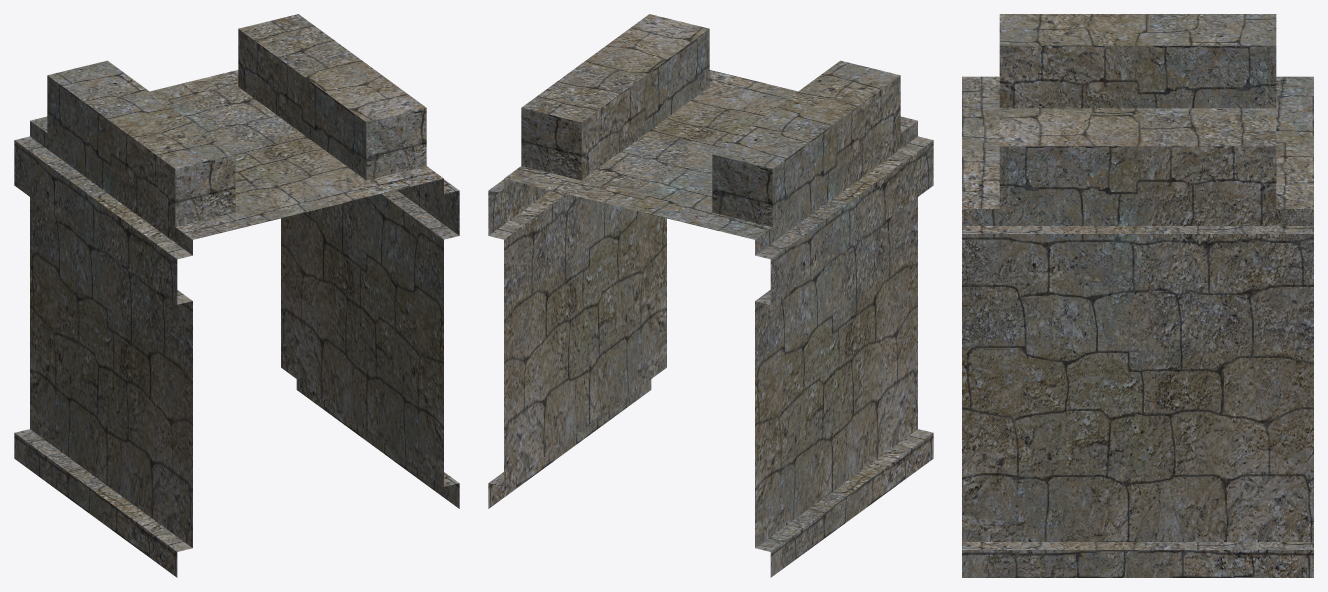
The picture shows the model from 3 angles, left to right: view 1: azimuth 30°, elevation 25°; view 2: azimuth 150°, elevation 25°; view 3: azimuth 270°, elevation 25°; orthographic projection. The views are drawn at different scales.
Parts seen in each view (by area): view 1: Claimed102WE001; view 2: Claimed102WE001; view 3: Claimed102WE001.
Boxes of the visible parts, left/top/right/bottom form: Claimed102WE001: left=14, top=14, right=459, bottom=577; Claimed102WE001: left=488, top=14, right=933, bottom=577; Claimed102WE001: left=962, top=14, right=1313, bottom=577.
Size of the model in its own units: 100 by 133 by 100.
